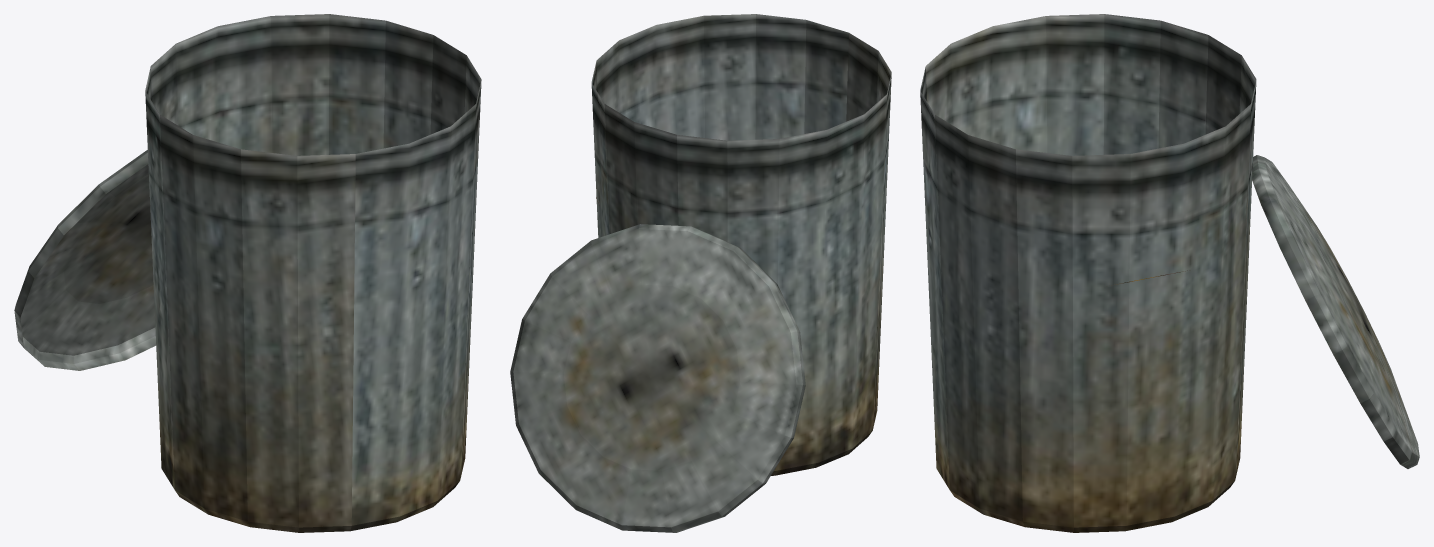
File: xiaowupin05.fbx
3 views of the same model, side by side, from view 1: azimuth 30°, elevation 25°; view 2: azimuth 150°, elevation 25°; view 3: azimuth 270°, elevation 25° (orthographic). The views are drawn at different scales.
Parts seen in each view (by area): view 1: can_1_5; view 2: can_1_5; view 3: can_1_5.
Part boxes in pixels (bbox=[...]): can_1_5: bbox=[14, 14, 481, 532]; can_1_5: bbox=[510, 14, 891, 532]; can_1_5: bbox=[920, 14, 1419, 532].
Size of the model in its own units: 86.96 by 99.44 by 117.
1 material, 1 textured.
